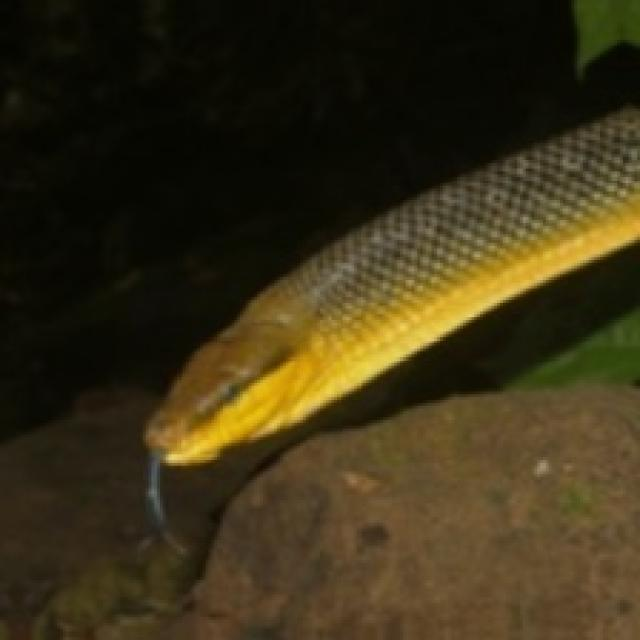red-tailed green ratsnake: (146, 106, 637, 554), (146, 106, 637, 551)
